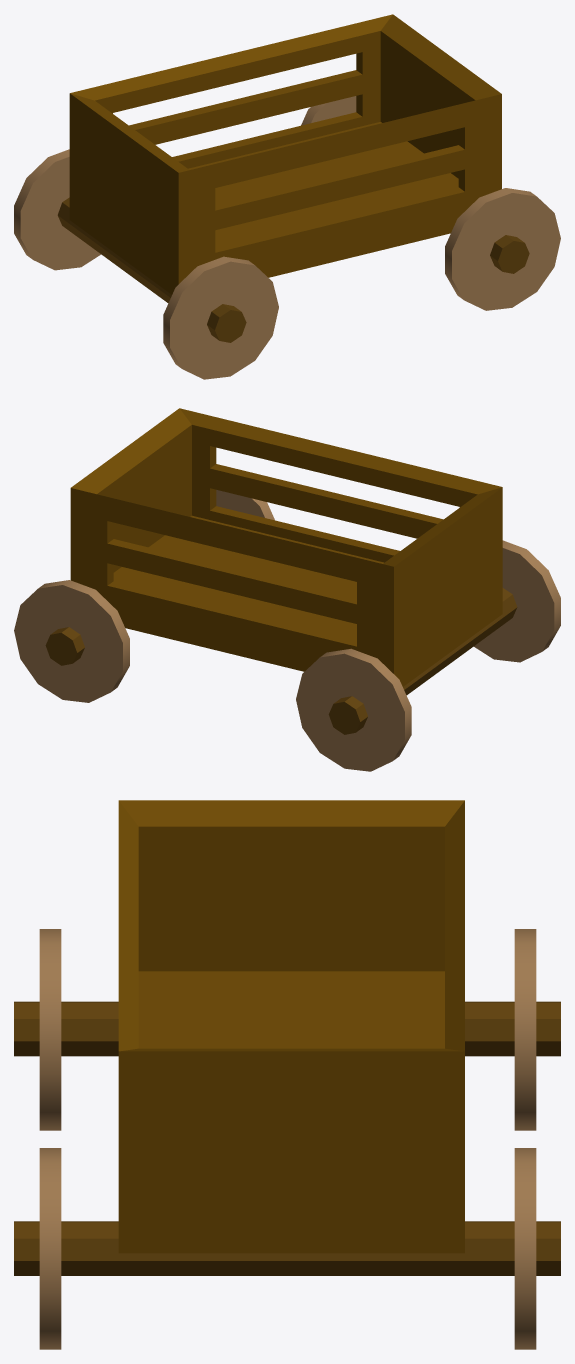
The model's file is Kar.fbx.
The picture shows the model from 3 angles, top to bottom: view 1: azimuth 30°, elevation 25°; view 2: azimuth 150°, elevation 25°; view 3: azimuth 270°, elevation 25°; orthographic projection. The views are drawn at different scales.
Parts seen in each view (by area): view 1: pCube4, Wielen, Assen; view 2: pCube4, Wielen, Assen; view 3: pCube4, Assen, Wielen.
Part boxes in pixels (x1=…): pCube4: x1=69, y1=14, x2=501, y2=294; Wielen: x1=14, y1=96, x2=560, y2=379; Assen: x1=57, y1=197, x2=529, y2=342; pCube4: x1=70, y1=408, x2=502, y2=686; Wielen: x1=14, y1=490, x2=560, y2=771; Assen: x1=45, y1=588, x2=517, y2=734; pCube4: x1=118, y1=800, x2=464, y2=1253; Assen: x1=14, y1=1001, x2=560, y2=1275; Wielen: x1=39, y1=929, x2=536, y2=1349.
Bounding box in the file's own units: 3.55 × 1.67 × 2.7.
